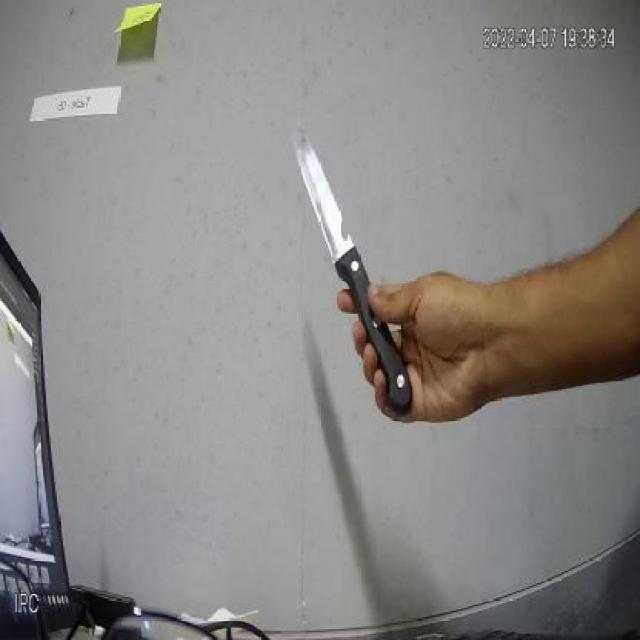-: (286, 108, 417, 419)
